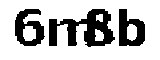6: (12, 8, 47, 49)
8: (88, 8, 116, 48)
b: (119, 4, 148, 55)
m: (48, 17, 87, 54)
